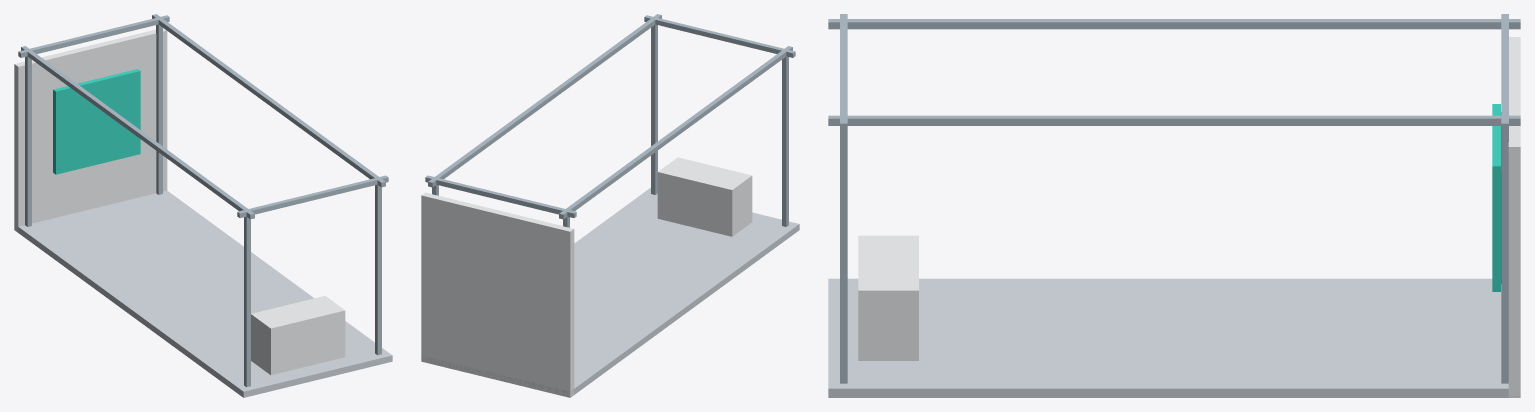
3 renders of one model, left to right at view 1: azimuth 30°, elevation 25°; view 2: azimuth 150°, elevation 25°; view 3: azimuth 270°, elevation 25°, orthographic. The views are drawn at different scales.
Visible parts, largest first — view 1: Exhibition Booth Concept; view 2: Exhibition Booth Concept; view 3: Exhibition Booth Concept.
Boxes of the visible parts, x1,y1,x2,y2 form: Exhibition Booth Concept: [14, 14, 392, 397]; Exhibition Booth Concept: [421, 14, 799, 397]; Exhibition Booth Concept: [828, 14, 1520, 397].
Bounding box in the file's own units: 3 × 3.49 × 8.
